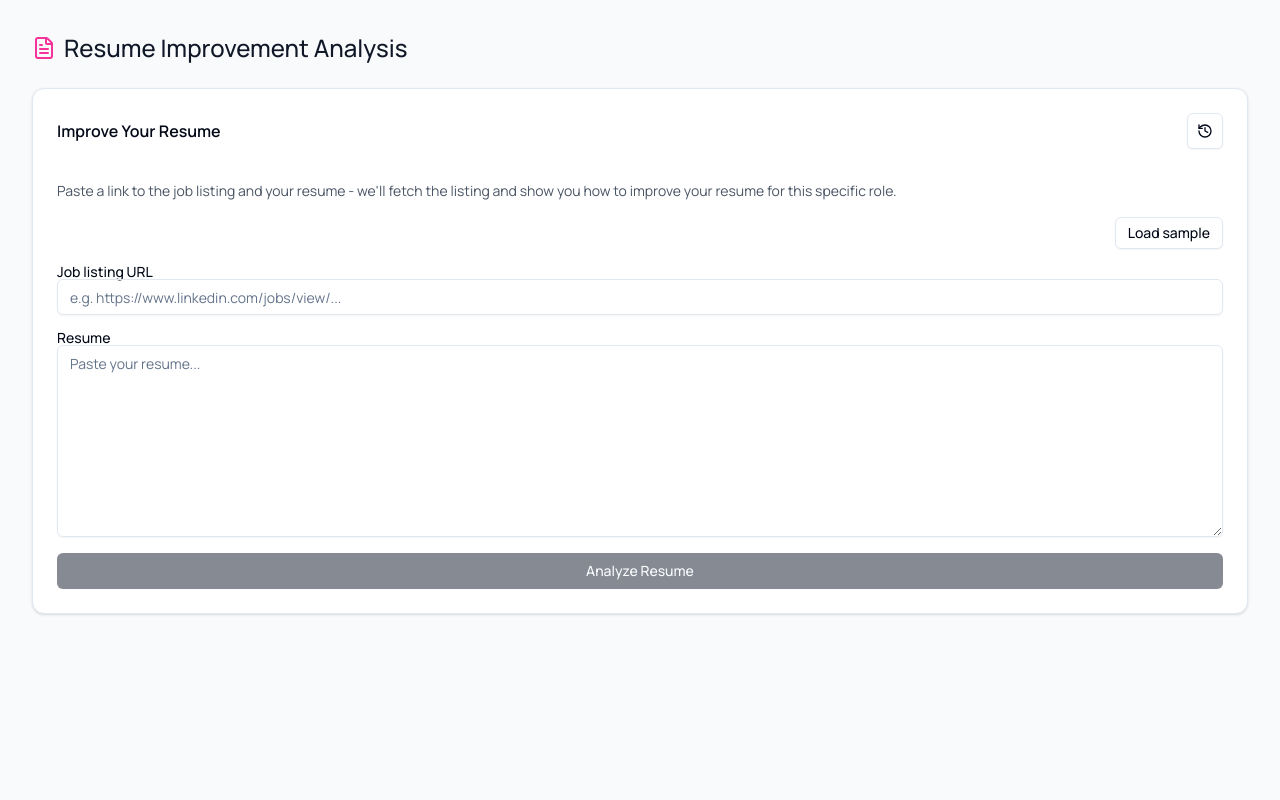
Test: Resume Improvement Analysis page › "Load sample" fills both fields
Click the button "Load sample": (1169, 233) [1115, 217, 1223, 249]
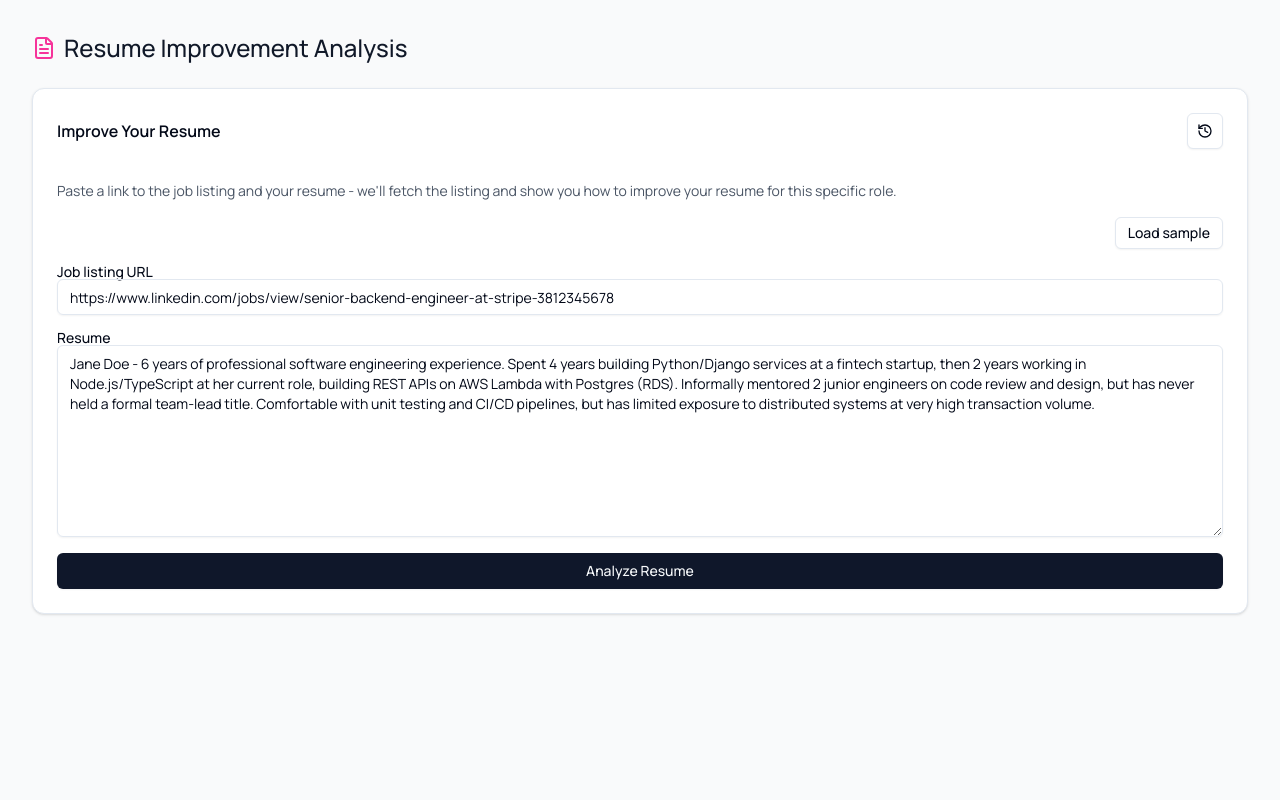
expect the button "Analyze Resume" is enabled: met, box [57, 553, 1223, 589]
